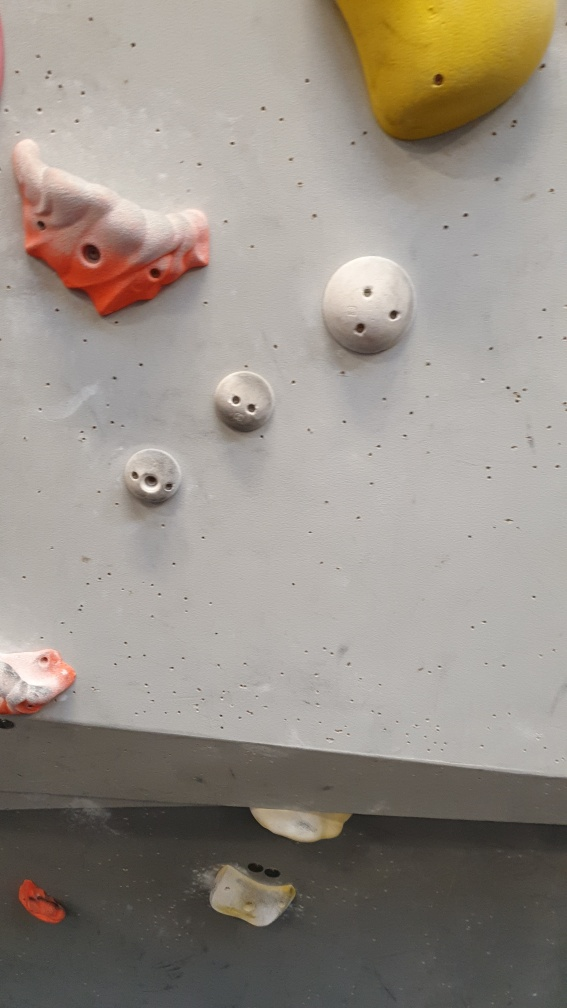Hand Start: (262, 864, 286, 884), (246, 852, 262, 875)
Jug: (11, 137, 220, 327), (15, 872, 70, 930)
Sloper: (320, 253, 420, 359), (208, 367, 277, 440), (121, 440, 186, 510)
